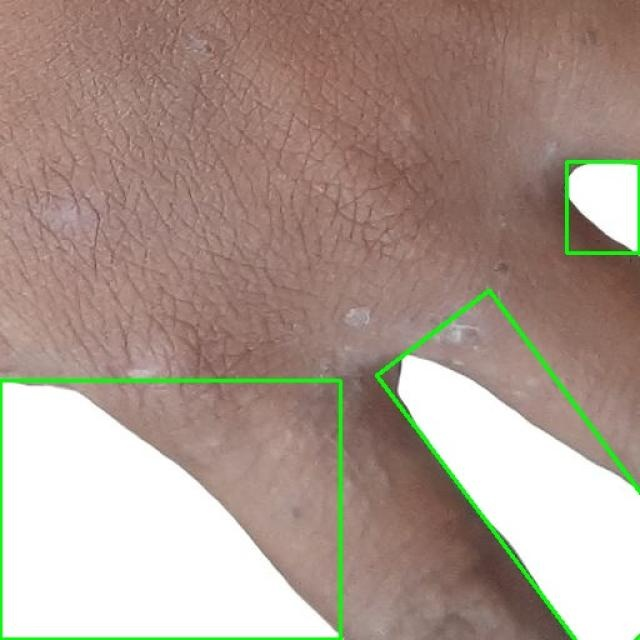Scabies: (376, 291, 640, 640), (0, 380, 340, 639), (566, 161, 639, 252)
